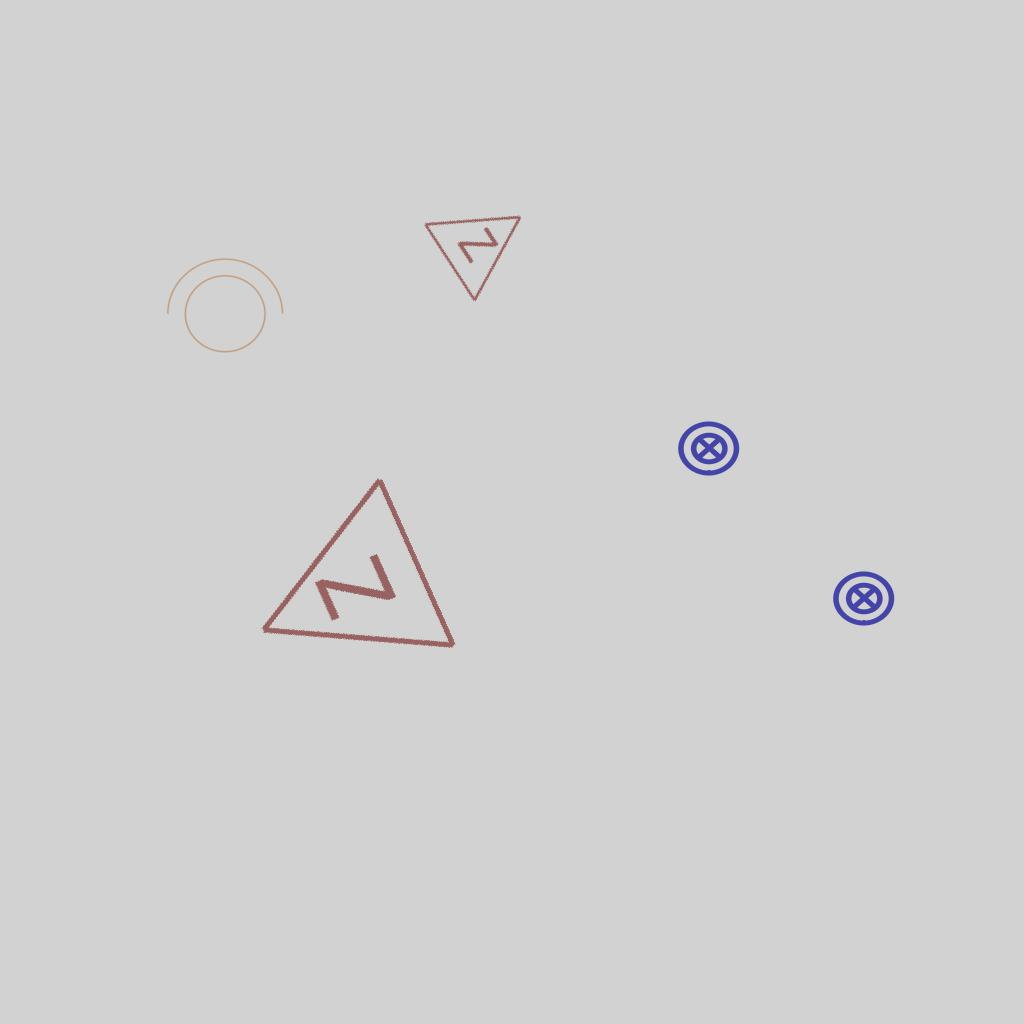Scheinwerfer_fuer_Alarmbeleuchtung: (156, 253, 288, 365)
Taster_beleuchtet: (676, 415, 742, 481), (831, 565, 897, 631)
Zimmersignalleuchte: (210, 467, 474, 729), (415, 170, 553, 308)
